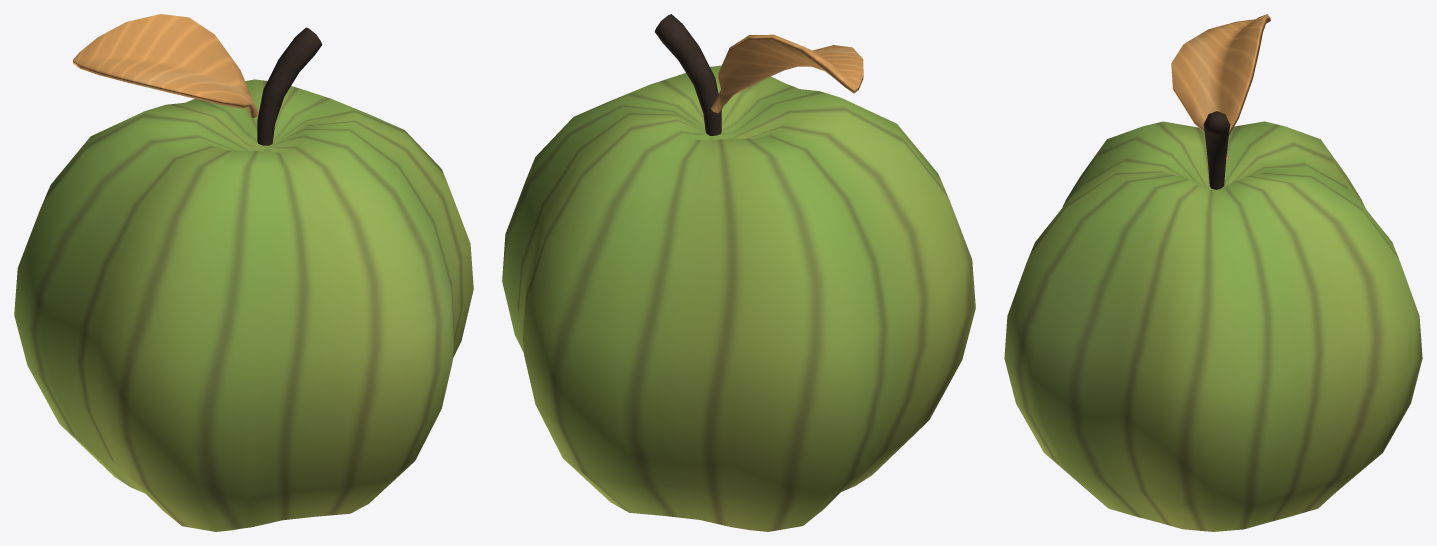
The model's file is Apple.fbx.
3 renders of one model, left to right at view 1: azimuth 30°, elevation 25°; view 2: azimuth 150°, elevation 25°; view 3: azimuth 270°, elevation 25°, orthographic. The views are drawn at different scales.
Visible parts, largest first — view 1: Apple; view 2: Apple; view 3: Apple.
Part boxes in pixels (left/top/right/bottom): Apple: left=14, top=14, right=473, bottom=531; Apple: left=502, top=14, right=975, bottom=531; Apple: left=1004, top=14, right=1422, bottom=531.
Bounding box in the file's own units: 43.71 × 51.44 × 43.67.
Materials: 1 (1 with a texture image).
